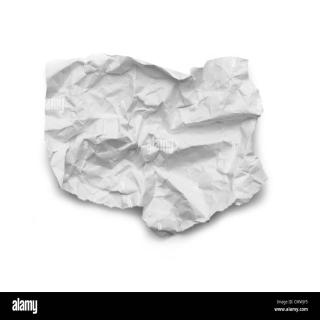Anorganik: (41, 53, 269, 236)
